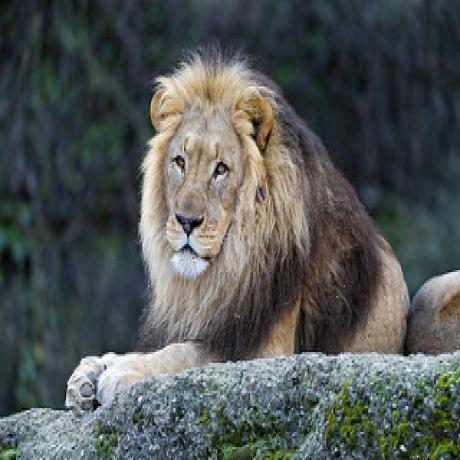Lion: (65, 40, 414, 409)
